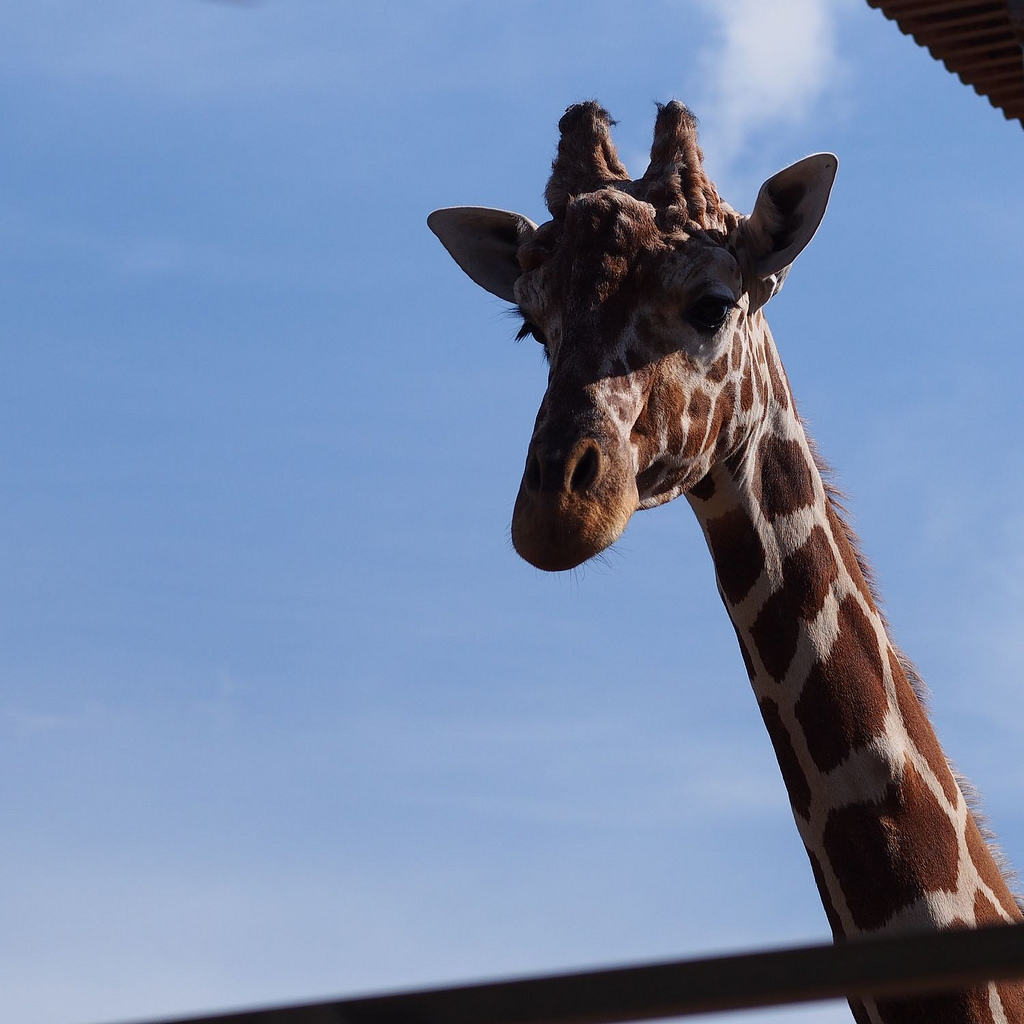giraffe: (428, 97, 989, 992)
